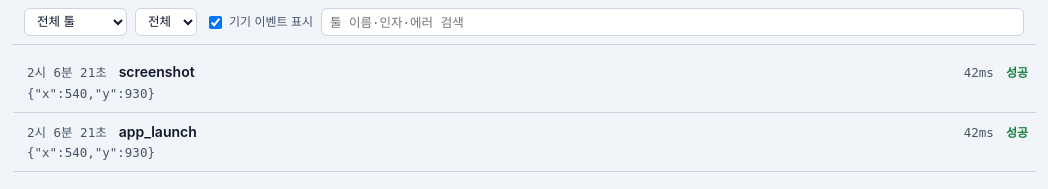
Test: ActivityTab › filters rows by tool name
Select "screenshot" in the dropdown named "툴": (76, 22) top-left (24, 8), bottom-right (127, 36)
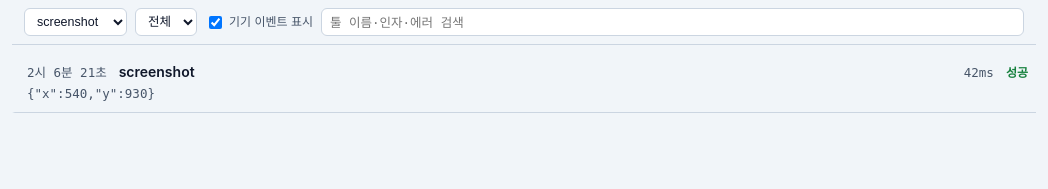
Expected: the list item shows "screenshot", top-left (15, 53), bottom-right (1036, 112)
Expected: the number of list items is 1, top-left (12, 53), bottom-right (1036, 112)
